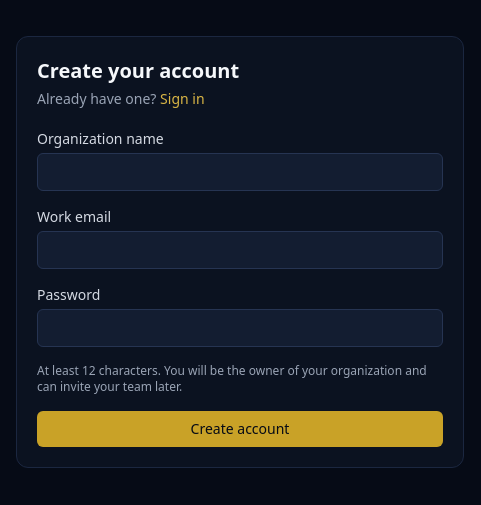
Test: RegisterPage › rejects a short password without calling the API
This screenshot has width=481, height=505.
Type "Acme" into the field labelled "Organization name" at (240, 172), box left=37, top=153, right=443, bottom=191
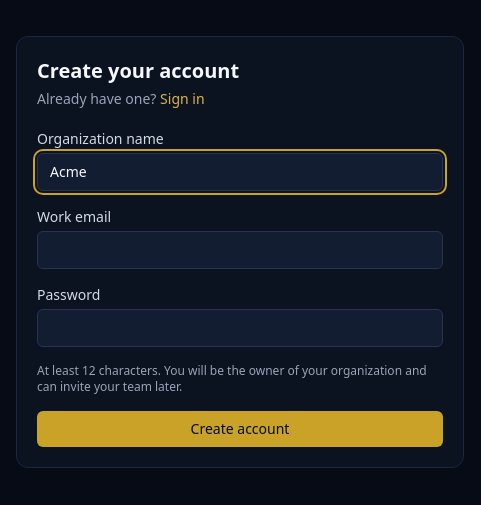
Type "a@b.c" into the field labelled "Work email" at (240, 250), box left=37, top=231, right=443, bottom=269
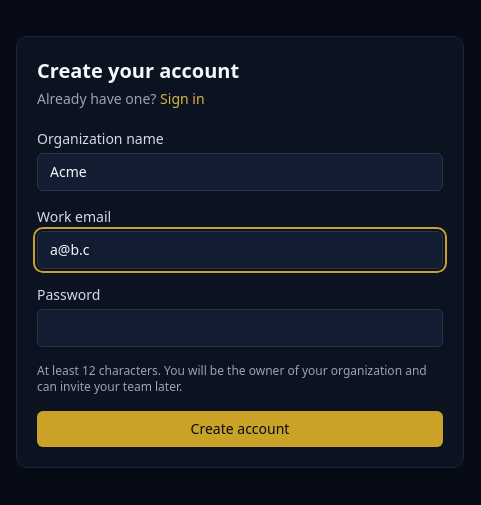
Type "short" into the password field labelled "Password" at (240, 328), box left=37, top=309, right=443, bottom=347
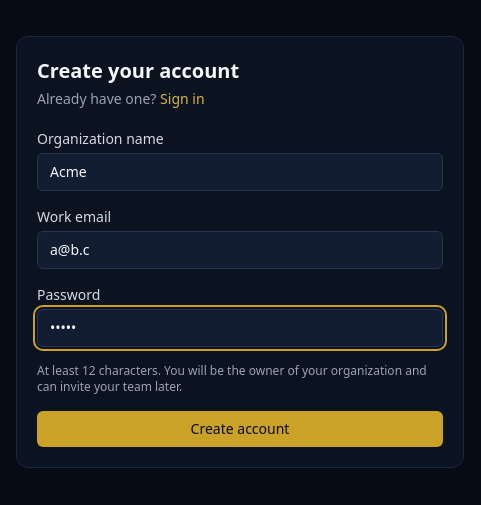
Click the button "Create account" at (240, 429), box left=37, top=411, right=443, bottom=447
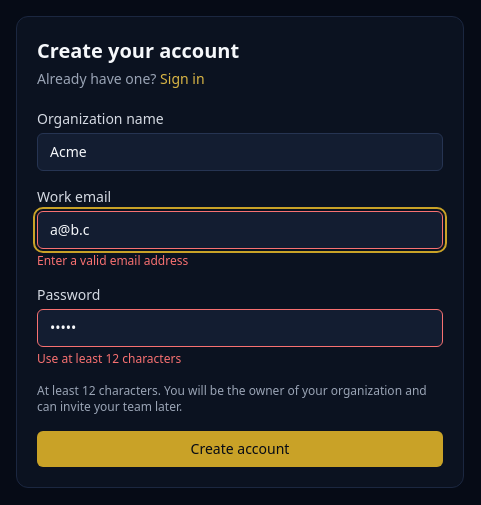
Result: the text "Use at least 12 characters" is shown at left=37, top=350, right=181, bottom=367
